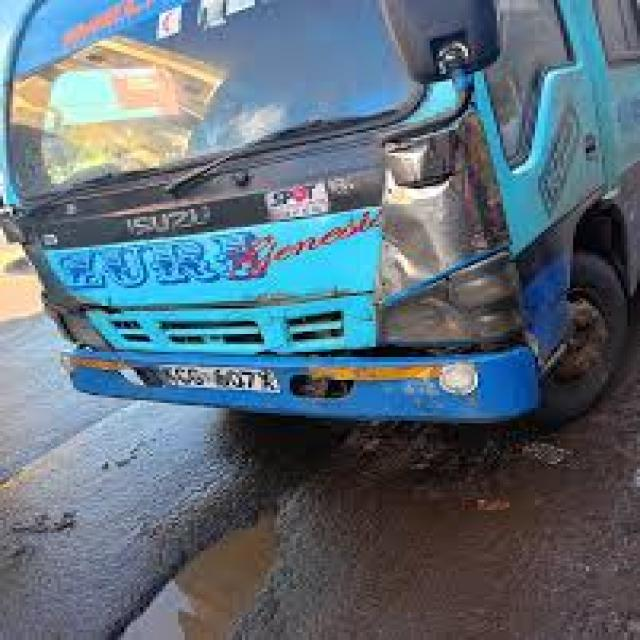bus: (0, 2, 640, 460)
